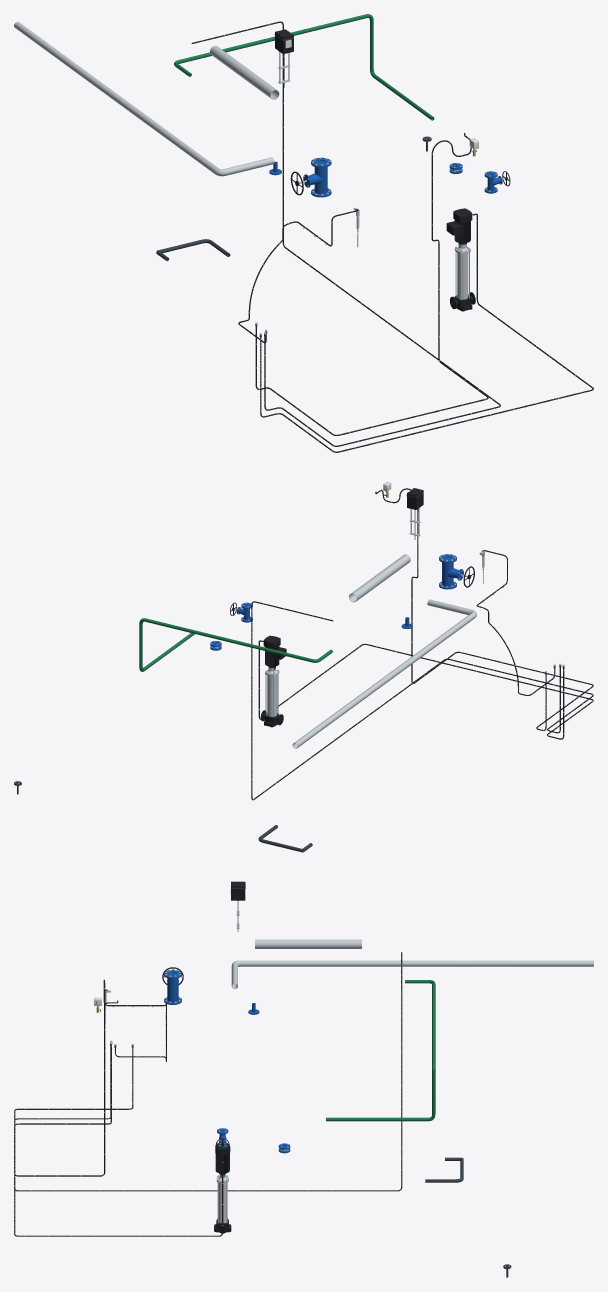
Rendered from s4000-4-V-7TkfK7.glb.
3 renders of one model, top to bottom at view 1: azimuth 30°, elevation 25°; view 2: azimuth 150°, elevation 25°; view 3: azimuth 270°, elevation 25°, orthographic. The views are drawn at different scales.
Parts seen in each view (by area): view 1: safety_vent_1 / steel, mod_eco_drive_cable / black, to_direct / green, wiring_pump_1 / black, wiring_pressure_transmitter / black, steam_delivery / steel, steam_manual / blue, pump_1 CAD solid 15; view 2: safety_vent_1 / steel, mod_eco_drive_cable / black, to_direct / green, wiring_pressure_transmitter / black, wiring_pump_1 / black, steam_delivery / steel, steam_manual / blue; view 3: safety_vent_1 / steel, mod_eco_drive_cable / black, to_direct / green, steam_delivery / steel, wiring_pressure_transmitter / black, wiring_pump_1 / black.
Part boxes in pixels (bbox=[...]): safety_vent_1 / steel: bbox=[14, 21, 274, 176]; mod_eco_drive_cable / black: bbox=[191, 21, 500, 446]; to_direct / green: bbox=[174, 14, 434, 120]; wiring_pump_1 / black: bbox=[260, 213, 593, 452]; wiring_pressure_transmitter / black: bbox=[255, 133, 488, 435]; steam_delivery / steel: bbox=[210, 45, 279, 99]; steam_manual / blue: bbox=[303, 157, 331, 197]; pump_1 CAD solid 15: bbox=[446, 208, 472, 243]; safety_vent_1 / steel: bbox=[292, 599, 476, 748]; mod_eco_drive_cable / black: bbox=[251, 601, 593, 800]; to_direct / green: bbox=[139, 618, 332, 671]; wiring_pressure_transmitter / black: bbox=[375, 488, 593, 730]; wiring_pump_1 / black: bbox=[258, 640, 593, 739]; steam_delivery / steel: bbox=[349, 554, 410, 602]; steam_manual / blue: bbox=[439, 554, 463, 589]; safety_vent_1 / steel: bbox=[231, 960, 593, 989]; mod_eco_drive_cable / black: bbox=[14, 952, 402, 1191]; to_direct / green: bbox=[326, 980, 435, 1121]; steam_delivery / steel: bbox=[255, 939, 361, 948]; wiring_pressure_transmitter / black: bbox=[14, 982, 133, 1176]; wiring_pump_1 / black: bbox=[14, 1047, 223, 1236].
Size of the model in its own units: 4.89 by 3.71 by 7.03.
